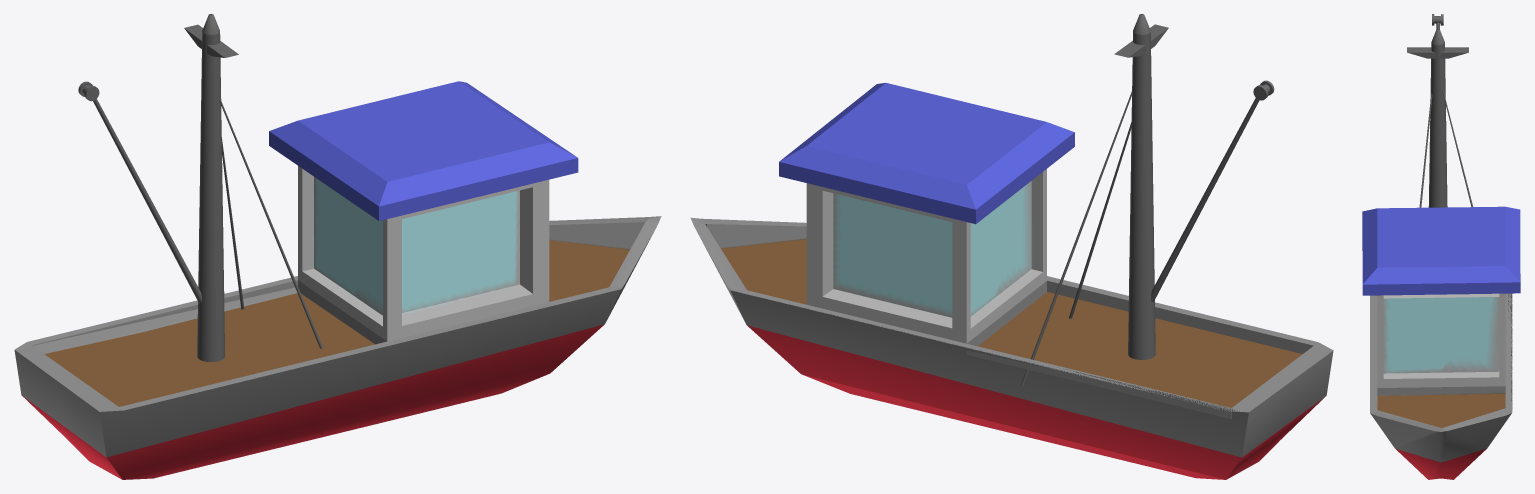
File: Boat Final.fbx
The picture shows the model from 3 angles, left to right: view 1: azimuth 30°, elevation 25°; view 2: azimuth 150°, elevation 25°; view 3: azimuth 270°, elevation 25°; orthographic projection. The views are drawn at different scales.
Visible parts, largest first — view 1: Boat; view 2: Boat; view 3: Boat.
Boxes of the visible parts, x1,y1,x2,y2 form: Boat: (14, 14, 661, 479); Boat: (690, 14, 1333, 479); Boat: (1362, 14, 1520, 479).
Bounding box in the file's own units: 35.53 × 25.33 × 10.68.
Materials: 2 (1 with a texture image).
